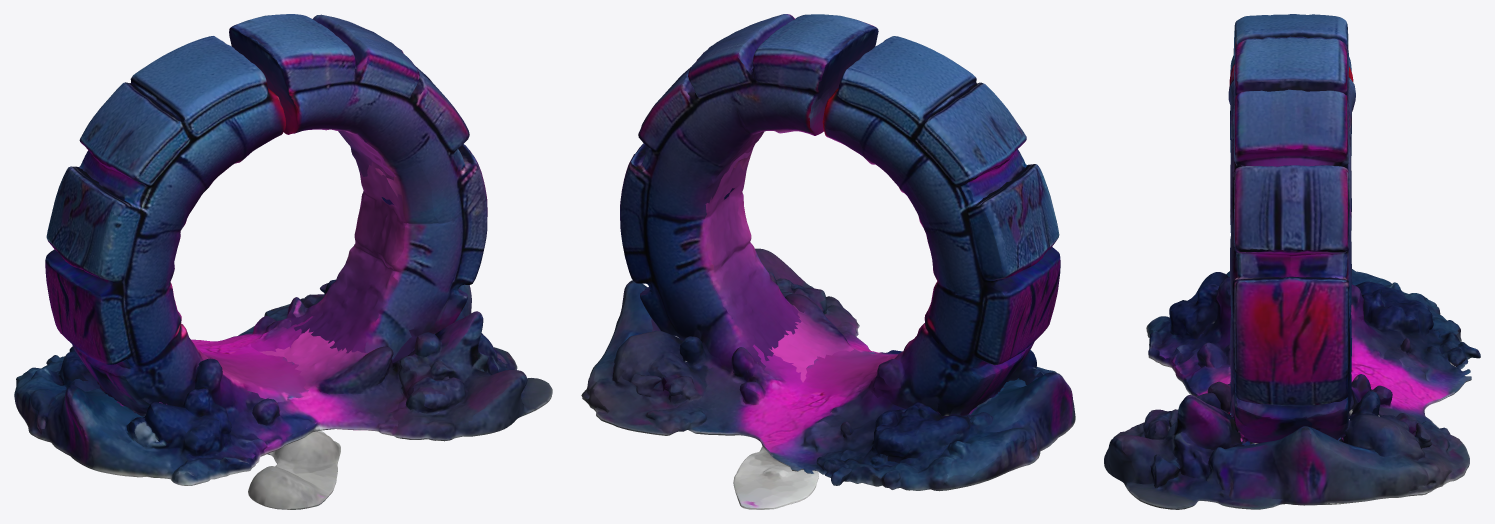
The model's file is broken-ring-generated-2026-05-17T21-02-15-898Z.high.glb.
The picture shows the model from 3 angles, left to right: view 1: azimuth 30°, elevation 25°; view 2: azimuth 150°, elevation 25°; view 3: azimuth 270°, elevation 25°; orthographic projection.
Parts seen in each view (by area): view 1: temp_mesh.ply; view 2: temp_mesh.ply; view 3: temp_mesh.ply.
Boxes of the visible parts, bbox=[...] form: temp_mesh.ply: bbox=[14, 14, 552, 509]; temp_mesh.ply: bbox=[581, 14, 1075, 509]; temp_mesh.ply: bbox=[1104, 14, 1480, 509].
Bounding box in the file's own units: 1.96 × 1.83 × 1.45.
1 material, 1 textured.
